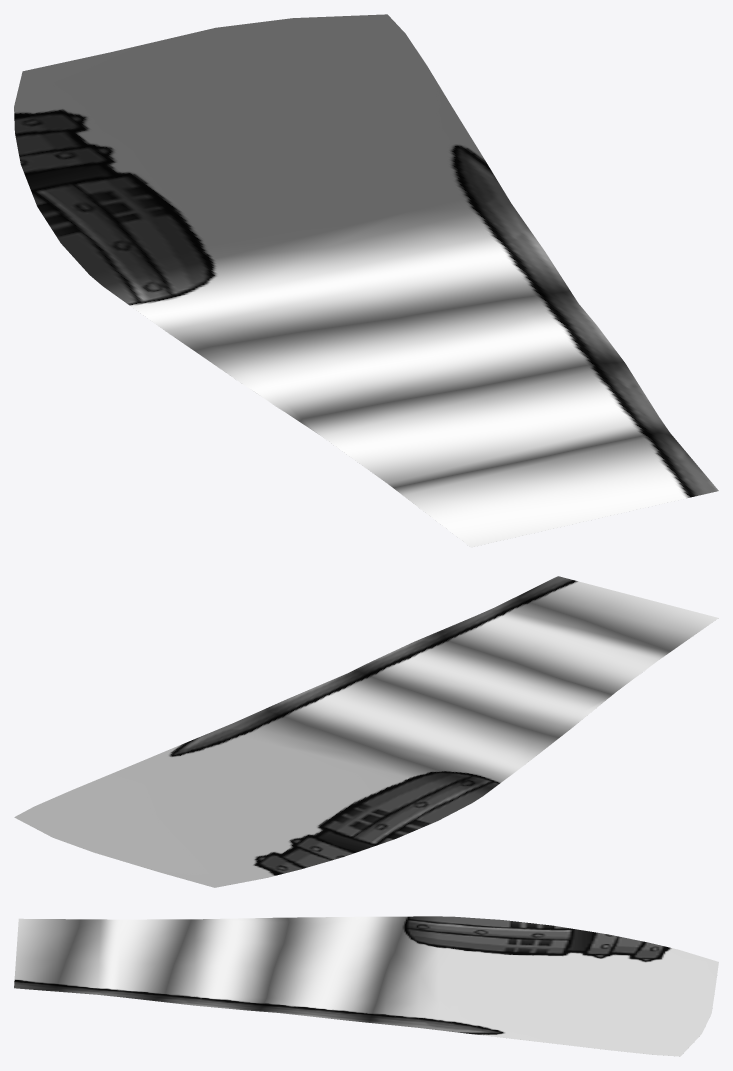
The model's file is Level 168.fbx.
3 renders of one model, top to bottom at view 1: azimuth 30°, elevation 25°; view 2: azimuth 150°, elevation 25°; view 3: azimuth 270°, elevation 25°, orthographic. The views are drawn at different scales.
Parts seen in each view (by area): view 1: Blend; view 2: Blend; view 3: Blend.
Boxes of the visible parts, x1,y1,x2,y2 form: Blend: (14, 14, 718, 547); Blend: (14, 576, 718, 887); Blend: (14, 916, 718, 1056).
Size of what is drawn, in the model's own units: 499 by 2.57 by 1061.
